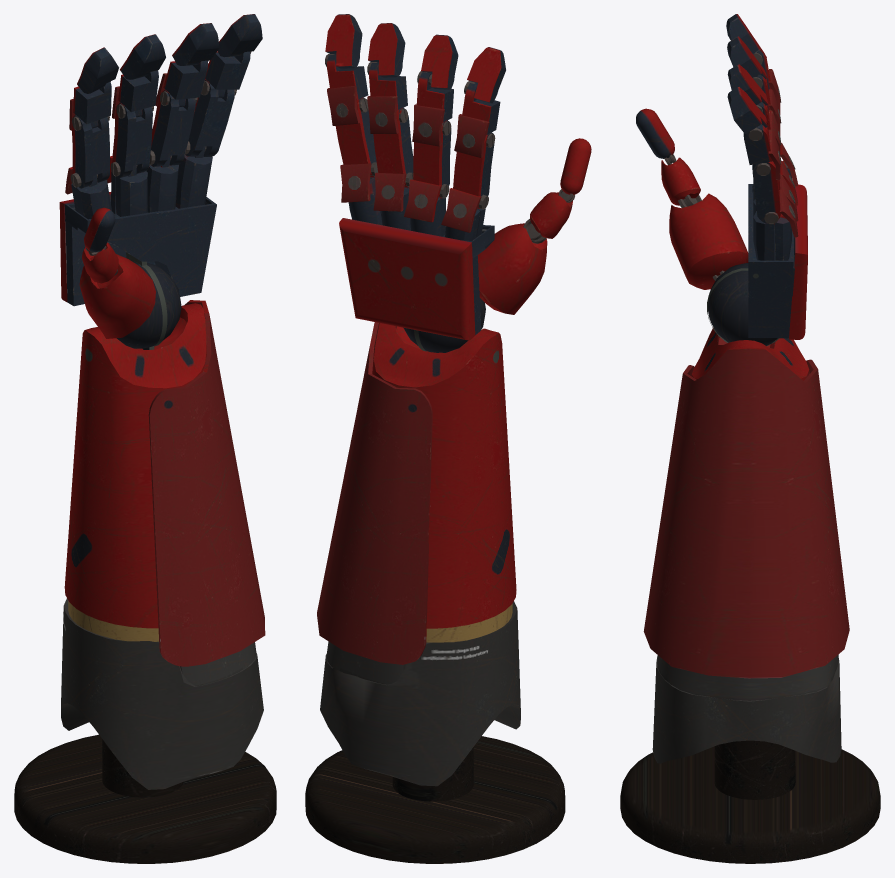
The model's file is venom_snakes_army.glb.
3 views of the same model, side by side, from view 1: azimuth 30°, elevation 25°; view 2: azimuth 150°, elevation 25°; view 3: azimuth 270°, elevation 25° (orthographic).
Visible parts, largest first — view 1: _UpperArm_low, _LowerArm_low, _Stand_low, _Hand_low, _Finger3_low, _Finger2_low, _Finger4_low, _Finger1_low, _Thumb_low; view 2: _UpperArm_low, _LowerArm_low, _Stand_low, _Hand_low, _Thumb_low, _Finger2_low, _Finger4_low, _Finger3_low, _Finger1_low; view 3: _UpperArm_low, _Stand_low, _LowerArm_low, _Hand_low, _Thumb_low, _Finger4_low, _Finger2_low, _Finger3_low, _Finger1_low.
Part boxes in pixels (x1=…): _UpperArm_low: x1=64, y1=300, x2=265, y2=666; _LowerArm_low: x1=61, y1=598, x2=263, y2=789; _Stand_low: x1=14, y1=734, x2=276, y2=863; _Hand_low: x1=59, y1=192, x2=216, y2=349; _Finger3_low: x1=146, y1=23, x2=219, y2=212; _Finger2_low: x1=107, y1=34, x2=165, y2=216; _Finger4_low: x1=175, y1=14, x2=262, y2=208; _Finger1_low: x1=65, y1=47, x2=118, y2=219; _Thumb_low: x1=79, y1=207, x2=155, y2=338; _UpperArm_low: x1=317, y1=322, x2=516, y2=664; _LowerArm_low: x1=320, y1=601, x2=520, y2=786; _Stand_low: x1=305, y1=736, x2=565, y2=863; _Hand_low: x1=339, y1=218, x2=494, y2=352; _Thumb_low: x1=477, y1=138, x2=591, y2=314; _Finger2_low: x1=404, y1=34, x2=458, y2=236; _Finger4_low: x1=325, y1=14, x2=382, y2=225; _Finger3_low: x1=367, y1=23, x2=413, y2=230; _Finger1_low: x1=441, y1=47, x2=505, y2=240; _UpperArm_low: x1=643, y1=327, x2=849, y2=678; _Stand_low: x1=620, y1=740, x2=880, y2=863; _LowerArm_low: x1=652, y1=654, x2=841, y2=763; _Hand_low: x1=707, y1=184, x2=807, y2=346; _Thumb_low: x1=636, y1=108, x2=748, y2=289; _Finger4_low: x1=727, y1=87, x2=798, y2=260; _Finger2_low: x1=727, y1=36, x2=798, y2=228; _Finger3_low: x1=727, y1=64, x2=798, y2=221; _Finger1_low: x1=726, y1=14, x2=798, y2=187.
Bounding box in the file's own units: 36 × 118 × 36.
Materials: 1 (1 with a texture image).
